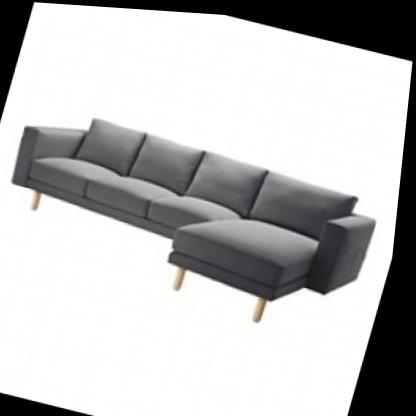Sofa: (0, 68, 409, 350)
